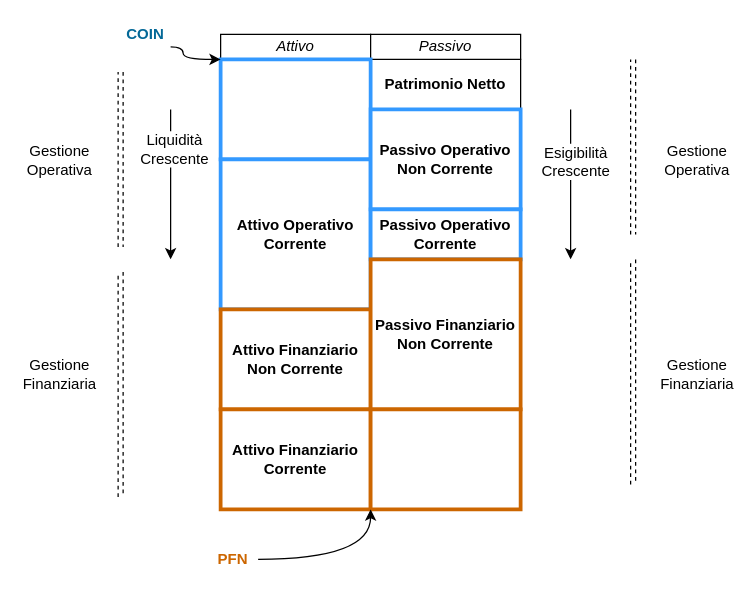
This 754x593 diagram has some shape labels left out. The centre of each missing label's shape, as x and y in pixels:
"Attivo Operativo Non Corrente" goes at (x=295, y=109).
"Passivo Finanziario Corrente" goes at (x=445, y=459).
